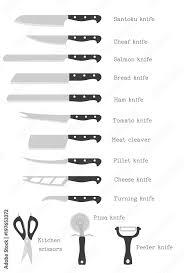Knife: (10, 72, 101, 83), (14, 14, 101, 25), (18, 111, 101, 122), (2, 53, 101, 62), (6, 93, 101, 102), (22, 175, 101, 185), (23, 156, 101, 166), (25, 34, 101, 43), (41, 195, 101, 204)
